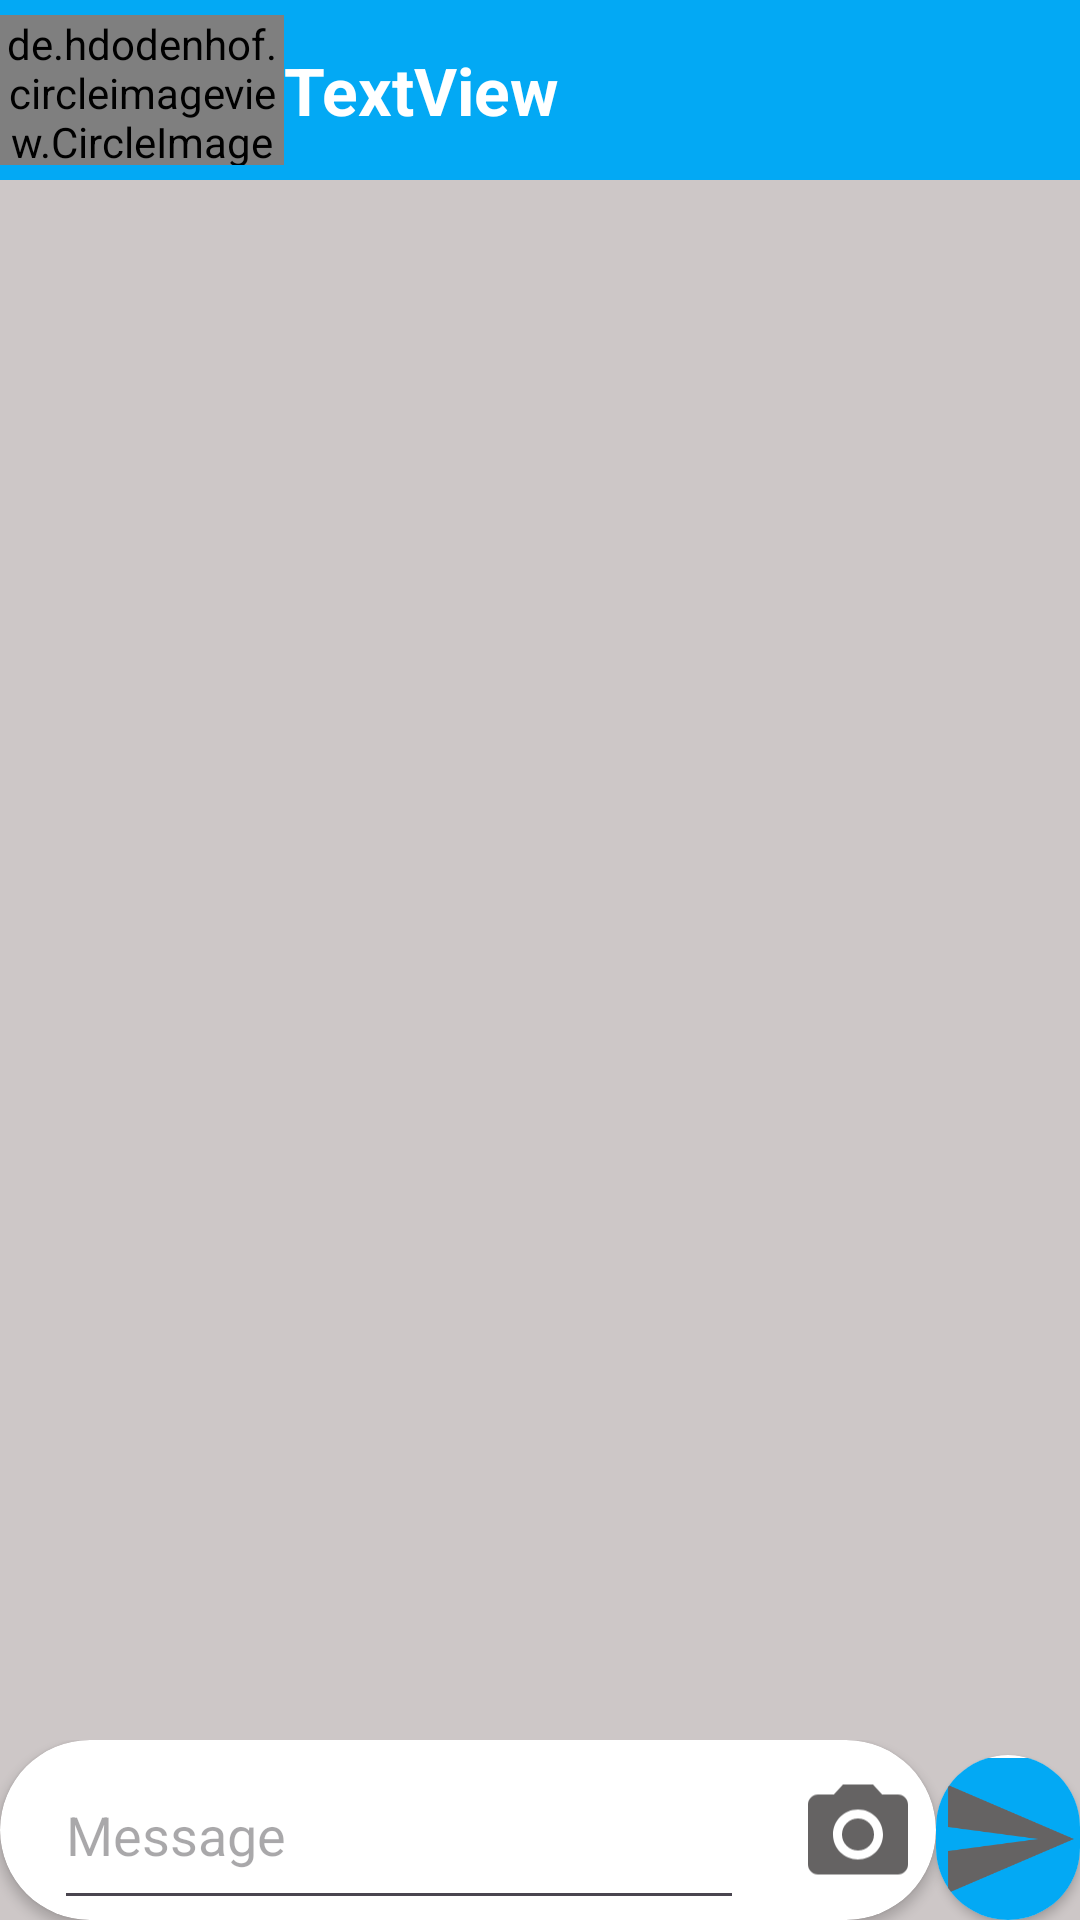

Named icons in this screenshot (1080px×1920px) and their centers, (x,y):
camera: (858,1829)
send: (1008,1839)
